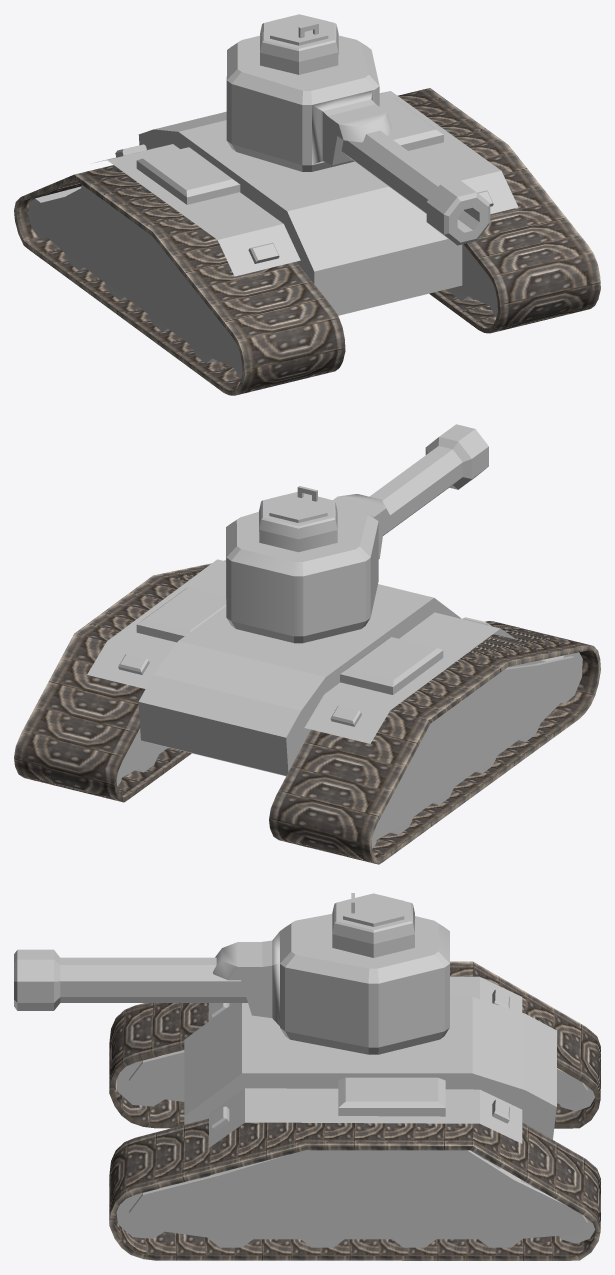
Rendered from Tank_Leopard II.fbx.
3 views of the same model, one above another, from view 1: azimuth 30°, elevation 25°; view 2: azimuth 150°, elevation 25°; view 3: azimuth 270°, elevation 25° (orthographic). The views are drawn at different scales.
Visible parts, largest first — view 1: Machine Gun, Right_Track, Body Fuselage, Left_Track, Side _Fuselage_Ex_R, Upper Fuselage, BoxRight, BoxLeft, Side_Fuselage_Ex_L.001; view 2: Machine Gun, Body Fuselage, Right_Track, Left_Track, Side _Fuselage_Ex_R, Upper Fuselage, BoxRight, BoxLeft, Side_Fuselage_Ex_L.001; view 3: Machine Gun, Side_Fuselage_Ex_L, Left_Track, Body Fuselage, Right_Track, Upper Fuselage, BoxLeft, Side _Fuselage_In_R, left bearing A, right-hand bearing A.
Part boxes in pixels (box(x1,y1,x2,y2)): Machine Gun: box(226, 14, 490, 245); Right_Track: box(14, 165, 345, 395); Body Fuselage: box(138, 111, 462, 315); Left_Track: box(398, 88, 600, 333); Side _Fuselage_Ex_R: box(30, 186, 242, 370); Upper Fuselage: box(94, 91, 518, 276); BoxRight: box(136, 147, 240, 204); BoxLeft: box(379, 97, 443, 150); Side_Fuselage_Ex_L.001: box(453, 244, 497, 308); Machine Gun: box(226, 424, 488, 643); Body Fuselage: box(138, 584, 461, 776); Right_Track: box(269, 621, 600, 864); Left_Track: box(14, 560, 225, 802); Side _Fuselage_Ex_R: box(371, 656, 581, 842); Upper Fuselage: box(87, 559, 516, 743); BoxRight: box(340, 637, 443, 694); BoxLeft: box(136, 587, 226, 642); Side_Fuselage_Ex_L.001: box(116, 728, 167, 780); Machine Gun: box(14, 893, 449, 1054); Side_Fuselage_Ex_L: box(129, 1150, 587, 1239); Left_Track: box(109, 1118, 600, 1260); Body Fuselage: box(184, 997, 556, 1139); Right_Track: box(109, 961, 600, 1128); Upper Fuselage: box(209, 976, 522, 1147); BoxLeft: box(338, 1077, 445, 1116); Side _Fuselage_In_R: box(129, 1050, 587, 1103); left bearing A: box(116, 1184, 176, 1238); right-hand bearing A: box(116, 1052, 175, 1106).
Size of the model in its own units: 604 by 413 by 811.
